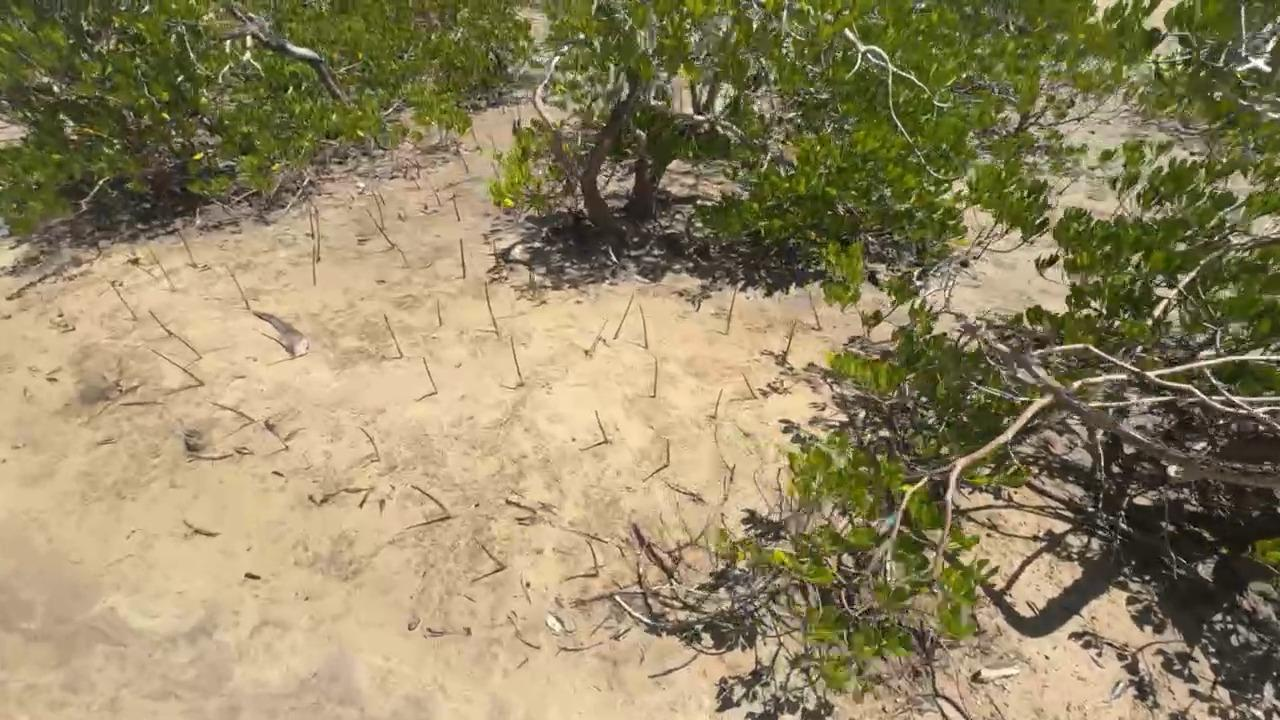Tree: (149, 348, 206, 386), (409, 484, 449, 513), (110, 279, 139, 319), (166, 329, 203, 358), (366, 209, 394, 247), (613, 292, 635, 340), (209, 400, 256, 422), (383, 313, 404, 358), (586, 319, 608, 358), (155, 256, 177, 293), (229, 272, 250, 310), (356, 425, 380, 457), (264, 420, 289, 449), (510, 335, 525, 383), (584, 539, 602, 577), (251, 327, 285, 347), (782, 320, 797, 364), (484, 282, 498, 329), (148, 310, 173, 336), (176, 230, 195, 264), (480, 544, 506, 568), (422, 357, 438, 393), (726, 289, 738, 334), (722, 463, 736, 500), (808, 292, 822, 328), (594, 409, 609, 442), (639, 306, 649, 350), (742, 373, 758, 399), (459, 237, 467, 280), (375, 197, 385, 228), (715, 388, 724, 418), (453, 192, 461, 222), (316, 220, 321, 263), (310, 207, 316, 240), (437, 298, 443, 326), (654, 357, 658, 396), (665, 437, 670, 465), (433, 191, 442, 206), (461, 158, 469, 173), (313, 245, 316, 284)
